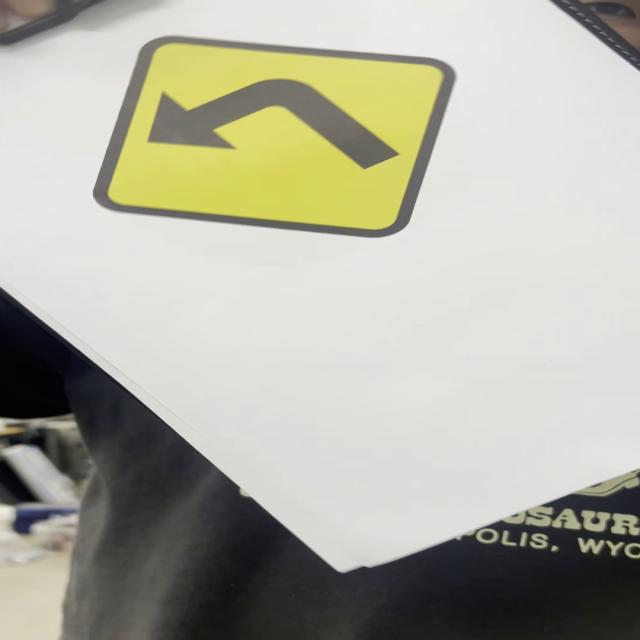left: (95, 37, 459, 239)
